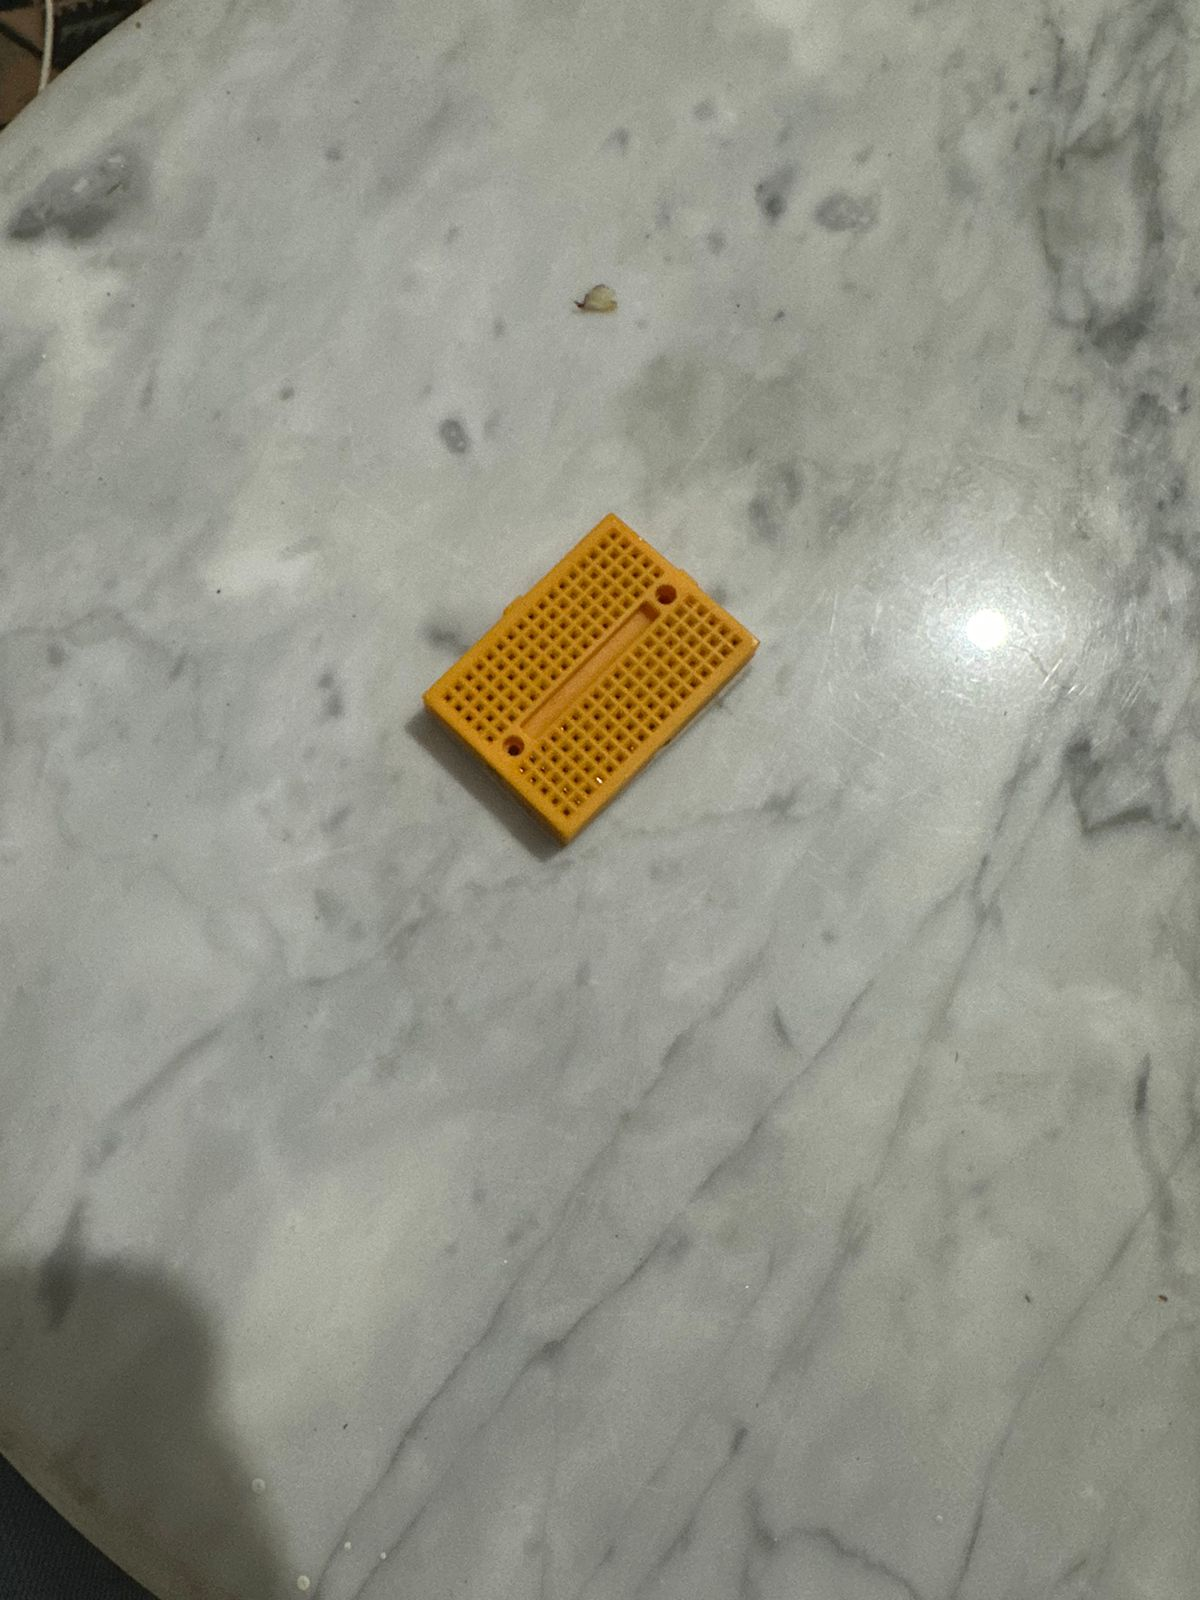breadboard: (416, 513, 766, 842)
